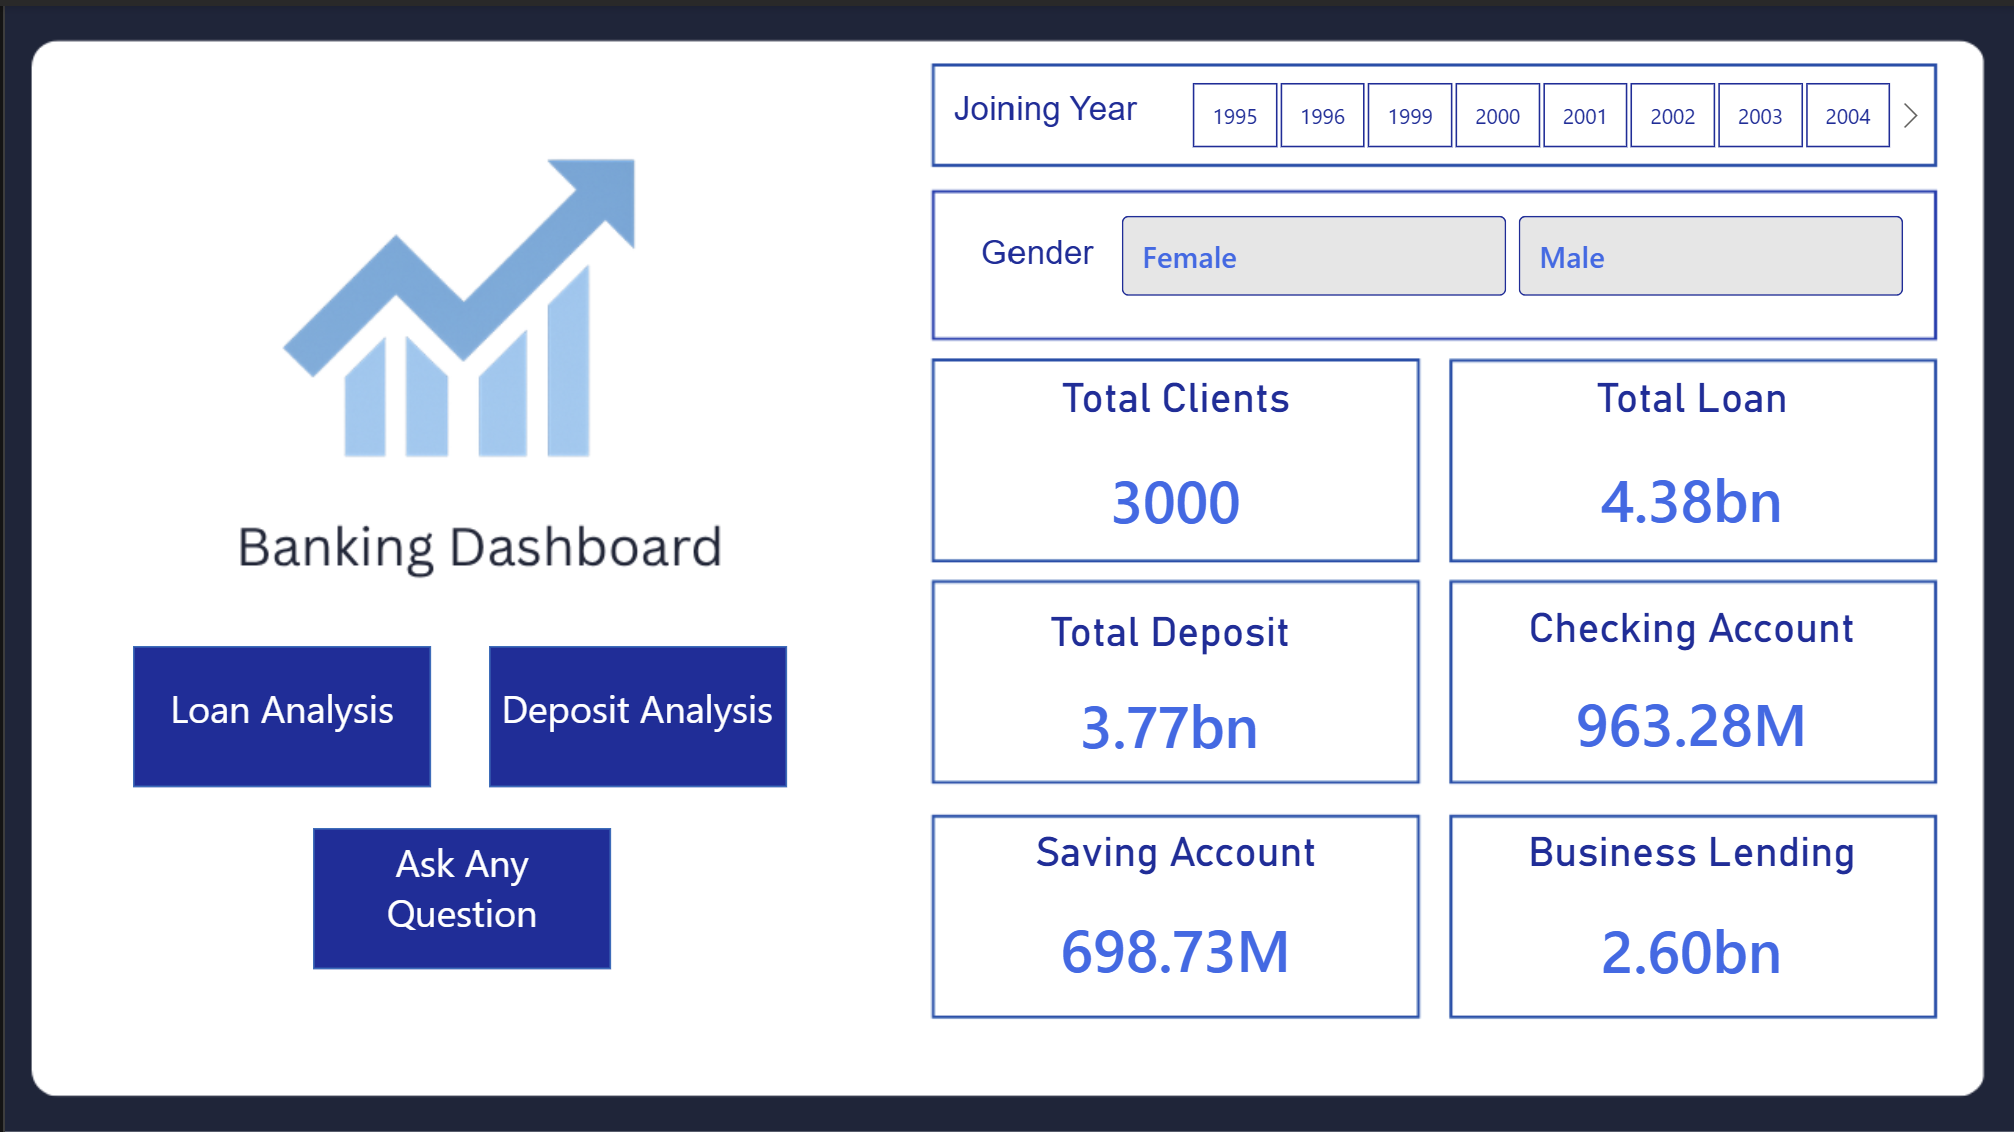

Layout of this report page (visuals, bound fields, positions):
{"tool":"powerbi","page":{"name":"Home","canvas":[1280,720],"ordinal":0},"visuals":[{"type":"cardVisual","title":"Total Clients","fields":{"Data":["CountNonNull(banking customer.Name)"]},"box":[591.6,234.6,308.5,124.9],"z":0},{"type":"cardVisual","title":"Total Loan","fields":{"Data":["banking customer.Total Loan Amount"]},"box":[924.3,234.6,300.9,123.7],"z":1000},{"type":"cardVisual","title":"Total Deposit","fields":{"Data":["banking customer.Total Deposit Amount"]},"box":[591.6,383.7,300.9,113.5],"z":2000},{"type":"cardVisual","title":"Checking Account","fields":{"Data":["Sum(banking customer.Checking Accounts)"]},"box":[924.3,381.2,300.9,116],"z":3000},{"type":"cardVisual","title":"Saving Account","fields":{"Data":["Sum(banking customer.Saving Accounts)"]},"box":[595.4,524,300.9,118.6],"z":4000},{"type":"cardVisual","title":"Business Lending","fields":{"Data":["Sum(banking customer.Business Lending)"]},"box":[924.3,524,300.9,119.8],"z":5000},{"type":"advancedSlicerVisual","fields":{"Values":["banking customer.Gender"]},"box":[706.7,128.3,508.3,61.7],"z":6000},{"type":"slicer","fields":{"Values":["banking customer.year of joined"]},"box":[730.5,42.1,494.7,54.8],"z":7000},{"type":"textbox","box":[595.4,48.4,135.1,43.3],"z":8000},{"type":"textbox","box":[590,140,135,43.3],"z":9000},{"type":"shape","box":[81.4,408.6,190,90],"z":10000},{"type":"shape","box":[195.7,524.3,190,90],"z":11000},{"type":"shape","box":[308.6,408.6,190,90],"z":12000},{"type":"textbox","box":[81.4,425.7,190,60],"z":13000},{"type":"textbox","box":[301.4,425.7,204.3,60],"z":14000},{"type":"textbox","box":[195.7,524.3,190,90],"z":15000},{"type":"actionButton","box":[81.4,408.6,190,90],"z":16000},{"type":"actionButton","box":[308.5,408,190,66.3],"z":17000},{"type":"actionButton","box":[195.7,524.3,190,90],"z":18000}]}

Visuals, with their boxes in screenshot pixels (x1, y1, x2, y2), scaled from the page's 1280x720 canvas onto the 2014x1132 screenshot:
"Total Clients" cardVisual: select_region(931, 369, 1416, 565)
"Total Loan" cardVisual: select_region(1454, 369, 1928, 563)
"Total Deposit" cardVisual: select_region(931, 603, 1404, 782)
"Checking Account" cardVisual: select_region(1454, 599, 1928, 782)
"Saving Account" cardVisual: select_region(937, 824, 1410, 1010)
"Business Lending" cardVisual: select_region(1454, 824, 1928, 1012)
advancedSlicerVisual - banking customer.Gender: select_region(1112, 202, 1912, 299)
slicer - banking customer.year of joined: select_region(1149, 66, 1928, 152)
textbox: select_region(937, 76, 1149, 144)
textbox: select_region(928, 220, 1141, 288)
shape: select_region(128, 642, 427, 784)
shape: select_region(308, 824, 607, 966)
shape: select_region(486, 642, 785, 784)
textbox: select_region(128, 669, 427, 764)
textbox: select_region(474, 669, 796, 764)
textbox: select_region(308, 824, 607, 966)
actionButton: select_region(128, 642, 427, 784)
actionButton: select_region(485, 641, 784, 746)
actionButton: select_region(308, 824, 607, 966)
